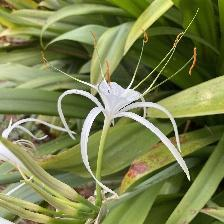spider lily: (83, 74, 161, 140), (1, 118, 53, 177)
